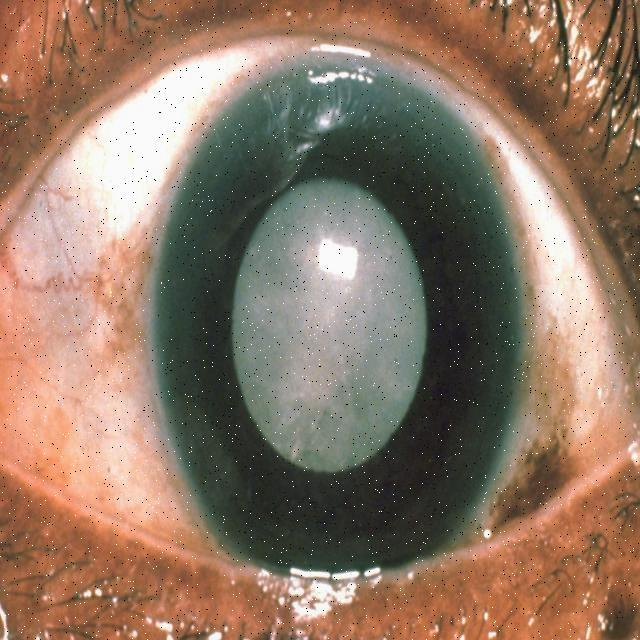Cataract: (148, 54, 530, 548)
